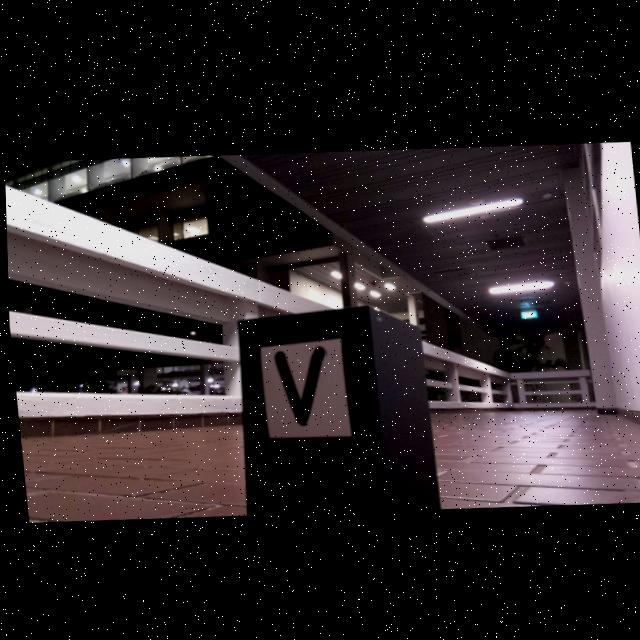V: (271, 342, 323, 421)
